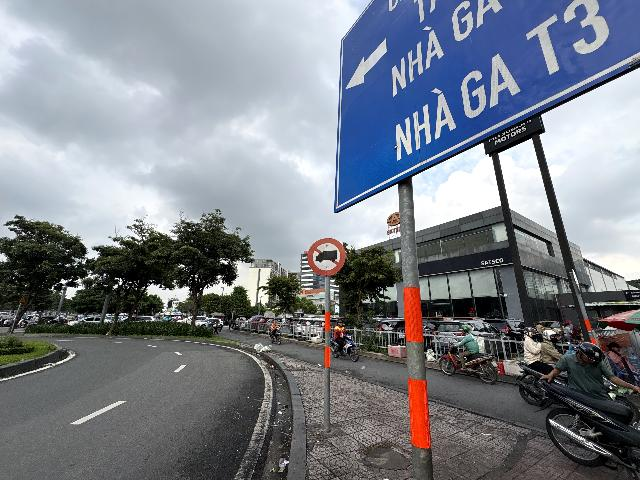cam-xe-tai: (307, 238, 346, 276)
